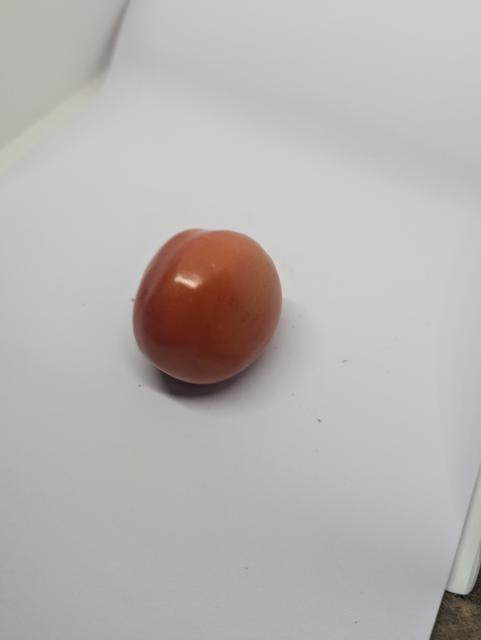red: (124, 224, 303, 401)
